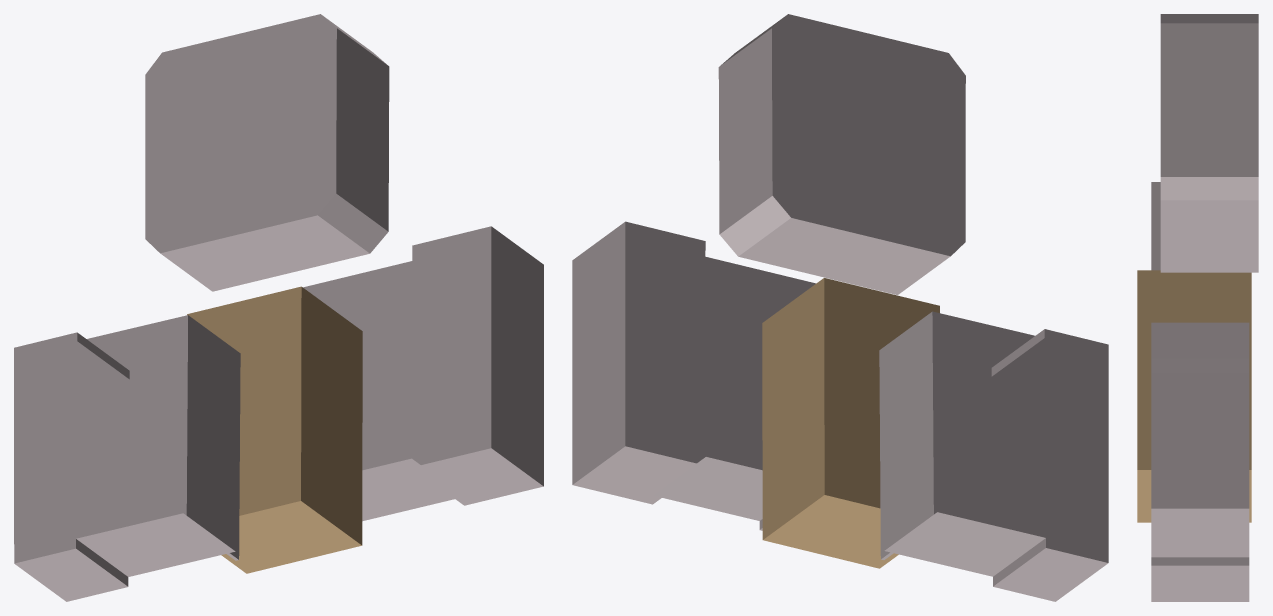
3 views of the same model, side by side, from view 1: azimuth 30°, elevation 25°; view 2: azimuth 150°, elevation 25°; view 3: azimuth 270°, elevation 25° (orthographic). The views are drawn at different scales.
Visible parts, largest first — view 1: 0_3_2_0_2_3_1; view 2: 0_3_2_0_2_3_1; view 3: 0_3_2_0_2_3_1.
Part boxes in pixels (x1=…): 0_3_2_0_2_3_1: x1=14, y1=14, x2=543, y2=601; 0_3_2_0_2_3_1: x1=572, y1=14, x2=1108, y2=601; 0_3_2_0_2_3_1: x1=1137, y1=14, x2=1258, y2=601.
Bounding box in the file's own units: 94.59 × 90.64 × 22.3.
